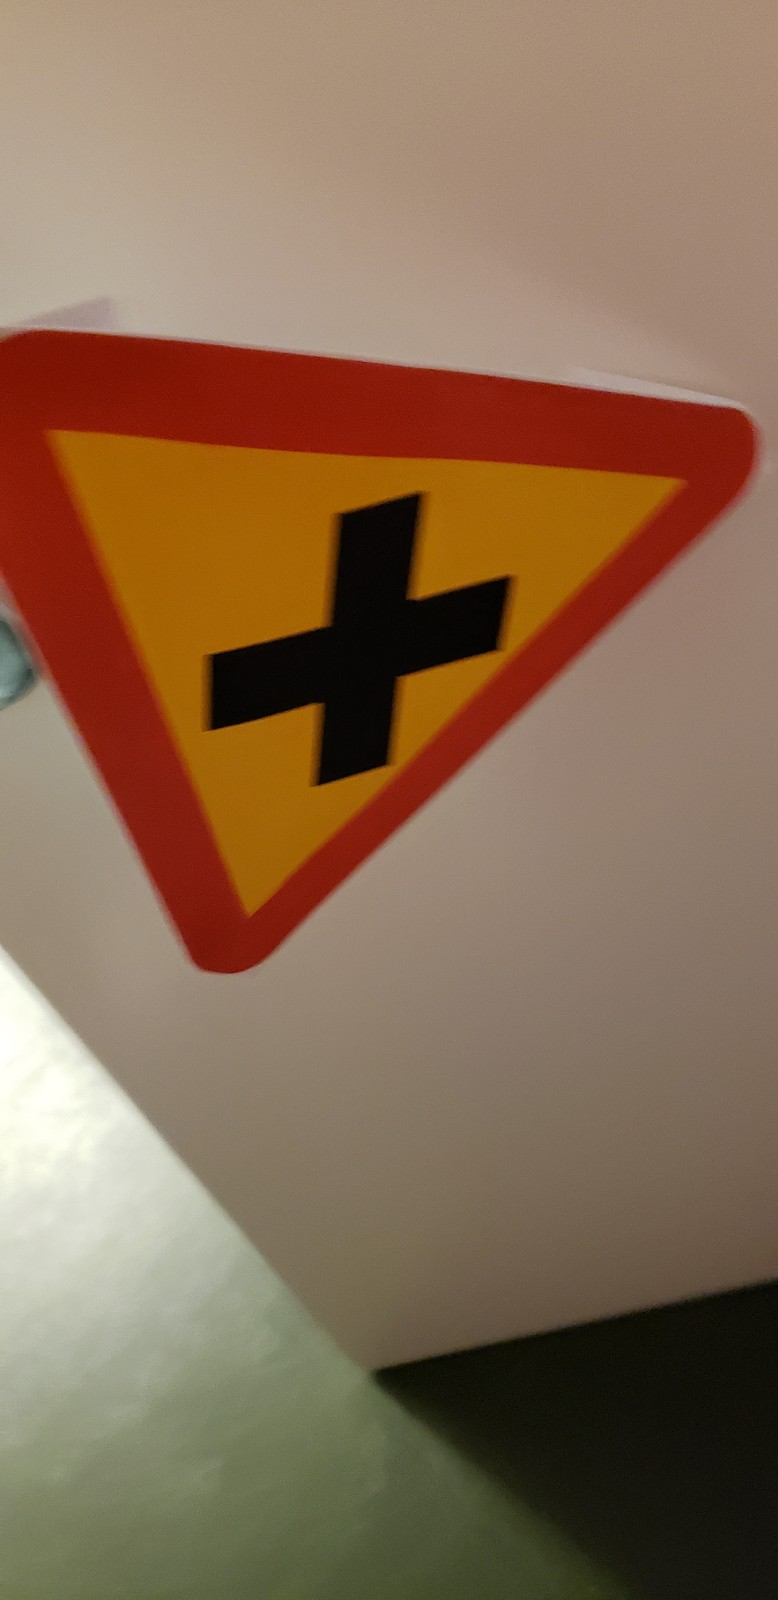junction: (3, 330, 765, 1010)
